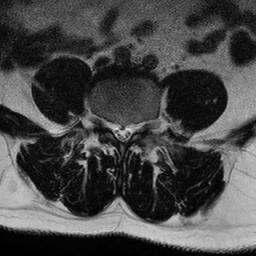CCS_severe_stenosis: (119, 117, 126, 147)
LFS_normal: (134, 112, 144, 138)
LLS_normal: (126, 117, 134, 144)
RFS_normal: (102, 109, 110, 135)
RLS_normal: (110, 115, 119, 142)
